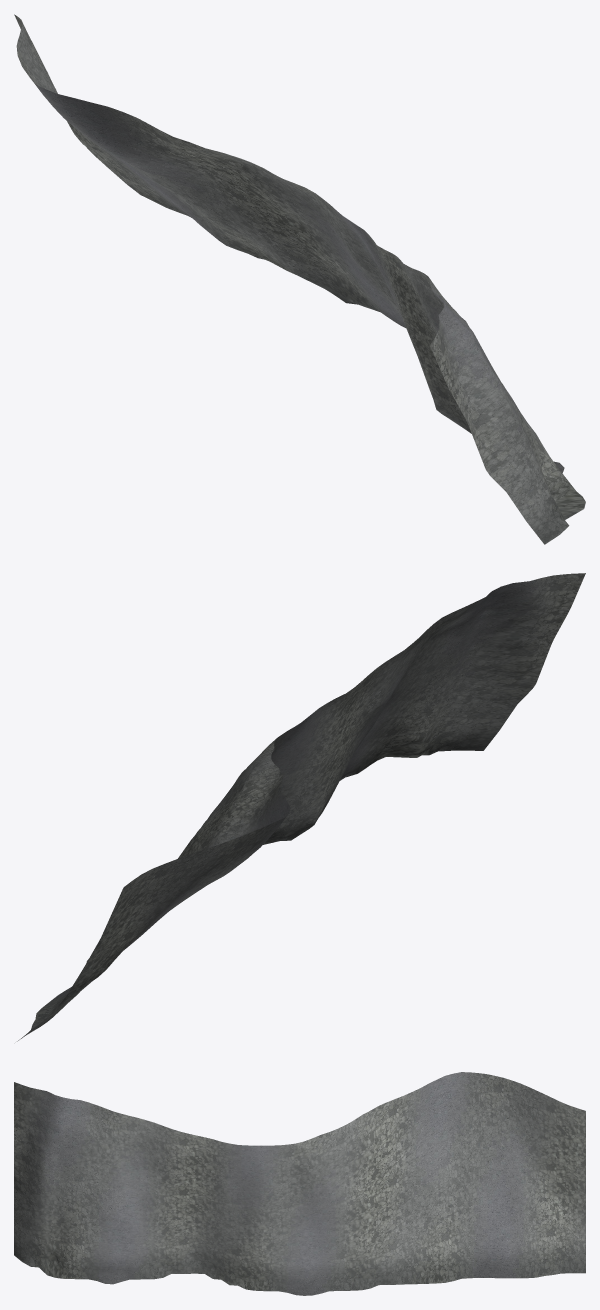
Rendered from kineo-wave-margin.glb.
3 views of the same model, one above another, from view 1: azimuth 30°, elevation 25°; view 2: azimuth 150°, elevation 25°; view 3: azimuth 270°, elevation 25° (orthographic). The views are drawn at different scales.
Parts seen in each view (by area): view 1: kineo wave margin; view 2: kineo wave margin; view 3: kineo wave margin.
Boxes of the visible parts, left/top/right/bottom form: kineo wave margin: left=14, top=14, right=585, bottom=544; kineo wave margin: left=17, top=573, right=585, bottom=1041; kineo wave margin: left=14, top=1072, right=585, bottom=1295.
Size of the model in its own units: 14.11 by 11.17 by 41.
1 material, 1 textured.
